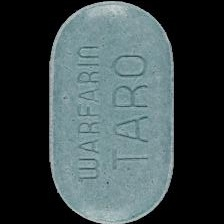51138-060: (0, 0, 224, 224)
